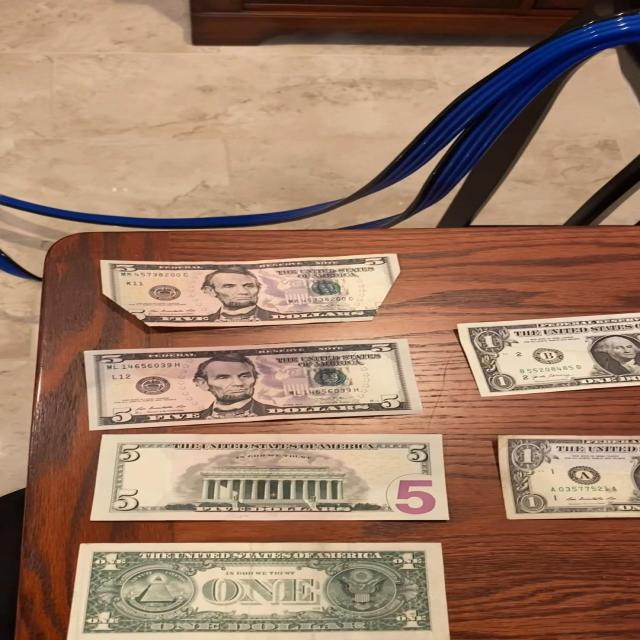1-Back: (68, 537, 459, 640)
1-Front: (451, 301, 640, 395), (487, 428, 640, 515)
5-Back: (91, 434, 447, 519)
5-Front: (82, 339, 421, 428), (95, 252, 411, 325)
